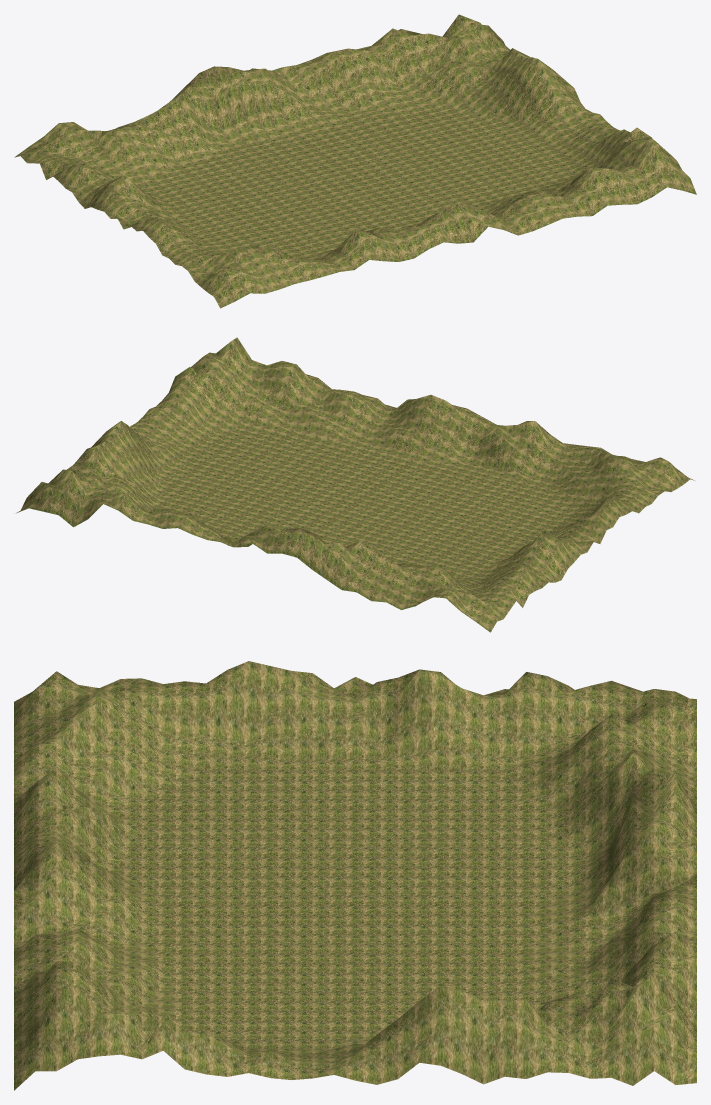
3 views of the same model, one above another, from view 1: azimuth 30°, elevation 25°; view 2: azimuth 150°, elevation 25°; view 3: azimuth 270°, elevation 25° (orthographic). The views are drawn at different scales.
Parts seen in each view (by area): view 1: Mesh; view 2: Mesh; view 3: Mesh.
Part boxes in pixels (x1,y1,x2,y2): Mesh: (14, 14, 696, 308); Mesh: (16, 337, 694, 632); Mesh: (14, 661, 696, 1090).
Bounding box in the file's own units: 1000 × 109 × 750.
Materials: 1 (1 with a texture image).
